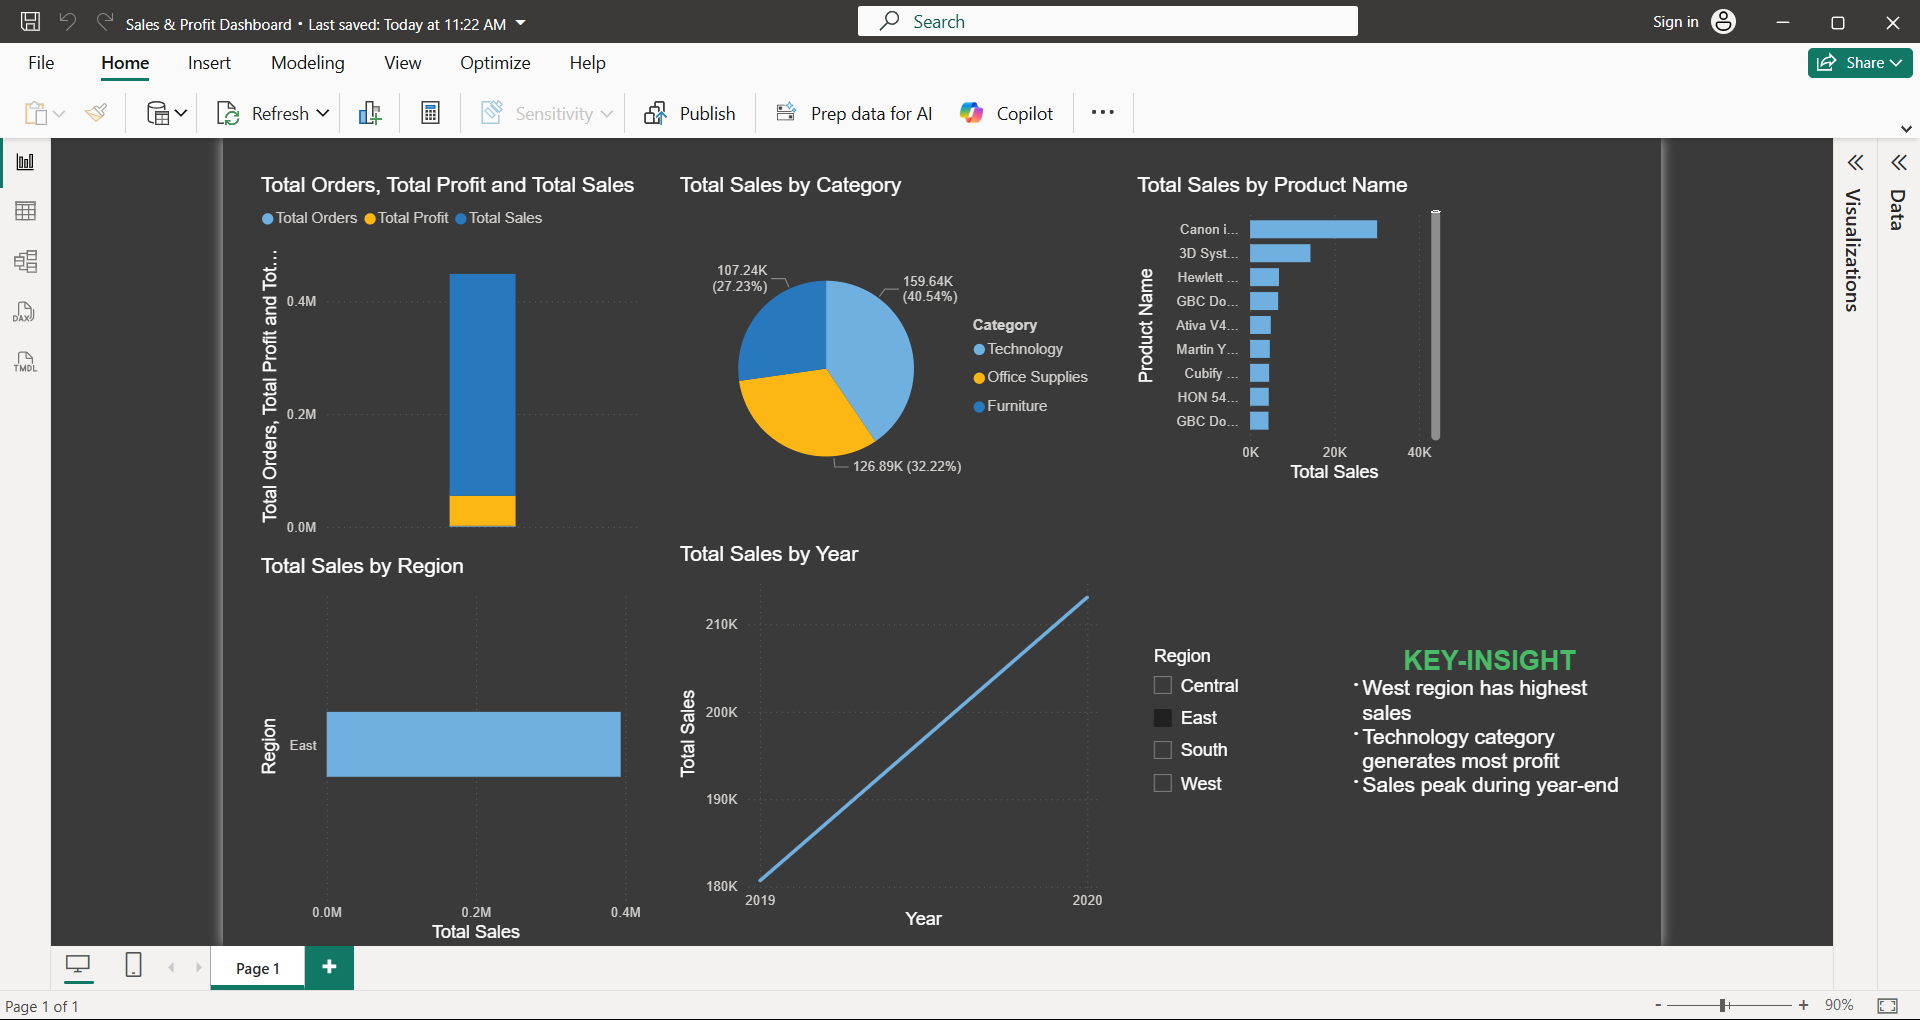

This screenshot's page, from the dashboard's own definition file:
{"tool":"powerbi","page":{"name":"Page 1","canvas":[1280,720],"ordinal":0},"visuals":[{"type":"columnChart","fields":{"Y":["Orders.Total Orders","Orders.Total Profit","Orders.Total Sales"]},"box":[28.8,31.6,348.5,328],"z":0},{"type":"clusteredBarChart","fields":{"Category":["Orders.Region"],"Y":["Orders.Total Sales"]},"box":[28.8,370.5,348.5,349.9],"z":1000},{"type":"pieChart","fields":{"Category":["Table1.Category"],"Y":["Orders.Total Sales"]},"box":[402.1,31.6,382.8,328],"z":2000},{"type":"lineChart","fields":{"Category":["Orders.Order_Date.Variation.Date Hierarchy.Year","Orders.Order_Date.Variation.Date Hierarchy.Quarter","Orders.Order_Date.Variation.Date Hierarchy.Month","Orders.Order_Date.Variation.Date Hierarchy.Day"],"Y":["Orders.Total Sales"]},"box":[402.1,359.5,387,349.9],"z":3000},{"type":"clusteredBarChart","fields":{"Category":["Orders.Product Name"],"Y":["Orders.Total Sales"]},"box":[809.6,31.6,279.9,279.9],"z":4000},{"type":"slicer","fields":{"Values":["Orders.Region"]},"box":[816,448,144,176],"z":5000},{"type":"textbox","box":[992,448,272,192],"z":5001}]}

Visuals, with their boxes on the page's 1280x720 design canvas (x1, y1, x2, y2). These are canvas units, not pixel positions in the 1920x1020 screenshot, which may show the page scaled, cropped or inside an application window:
columnChart - Orders.Total Orders x Orders.Total Profit: [x1=29, y1=32, x2=377, y2=360]
clusteredBarChart - Orders.Region x Orders.Total Sales: [x1=29, y1=370, x2=377, y2=720]
pieChart - Table1.Category x Orders.Total Sales: [x1=402, y1=32, x2=785, y2=360]
lineChart - Orders.Order_Date.Variation.Date Hierarchy.Year x Orders.Order_Date.Variation.Date Hierarchy.Quarter: [x1=402, y1=360, x2=789, y2=709]
clusteredBarChart - Orders.Product Name x Orders.Total Sales: [x1=810, y1=32, x2=1090, y2=312]
slicer - Orders.Region: [x1=816, y1=448, x2=960, y2=624]
textbox: [x1=992, y1=448, x2=1264, y2=640]
